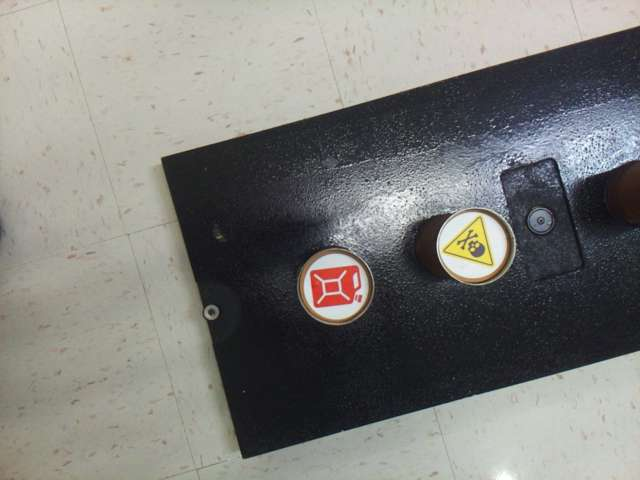gasoline: (302, 254, 370, 321)
toxic_fluid: (438, 212, 507, 278)
